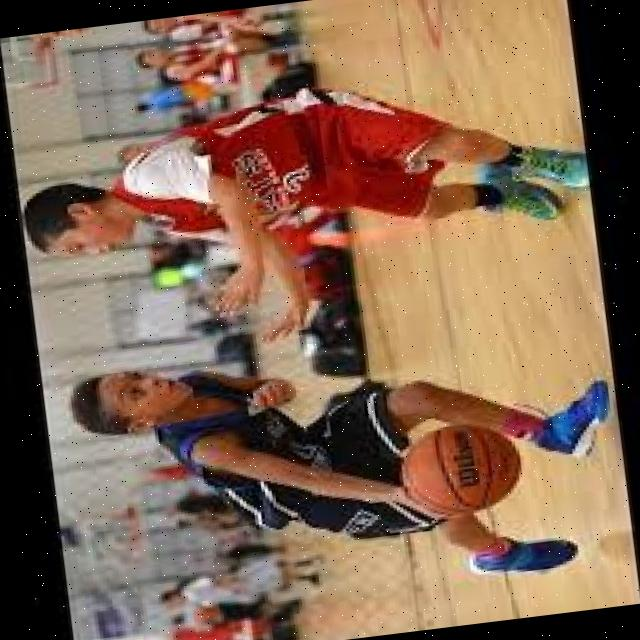ball: (399, 419, 522, 516)
hoop: (32, 32, 44, 72)
